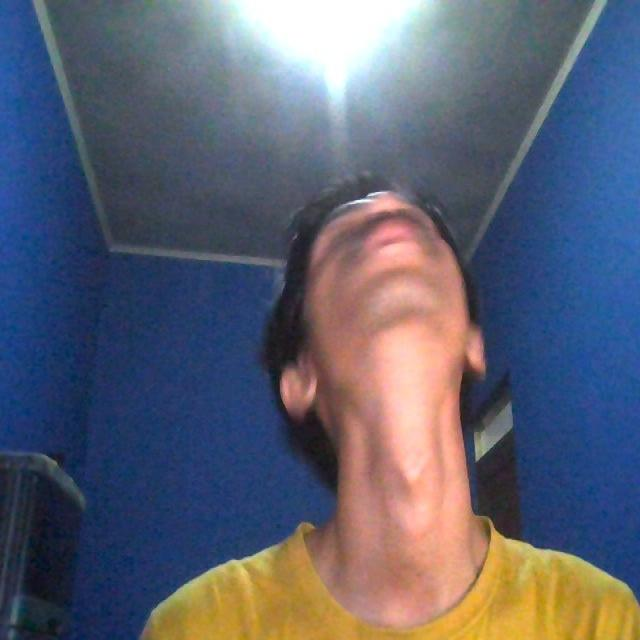Melihat keatas: (250, 178, 510, 484)
